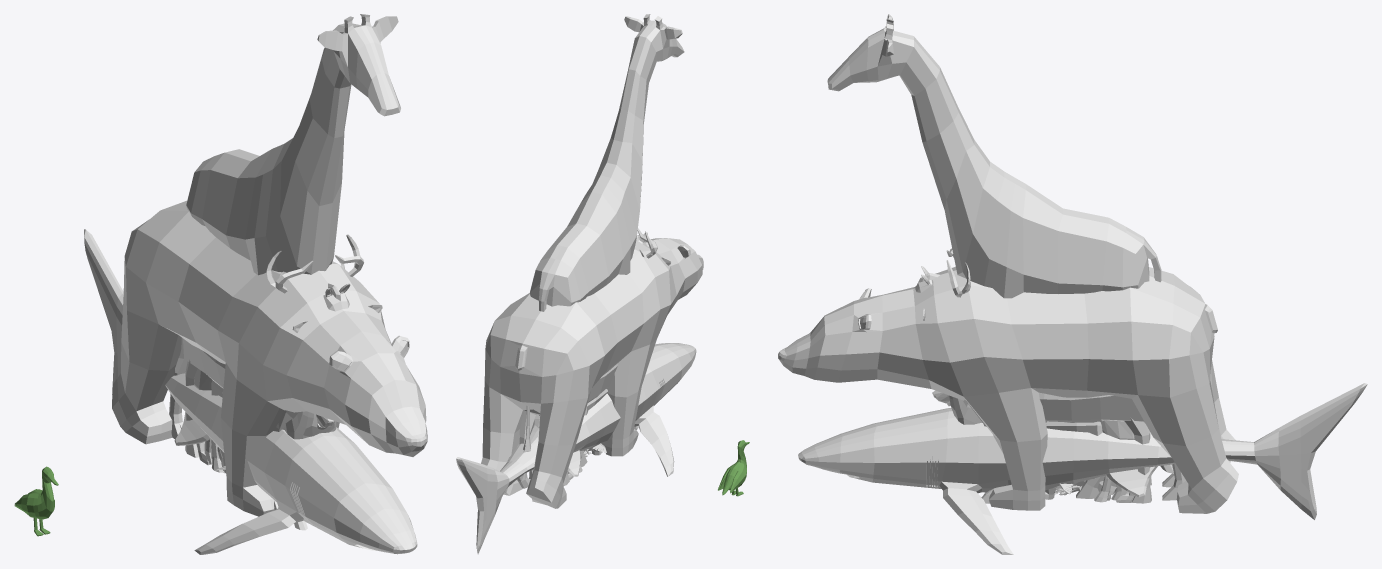
The model's file is duck_final_plane.glb.
3 renders of one model, left to right at view 1: azimuth 30°, elevation 25°; view 2: azimuth 150°, elevation 25°; view 3: azimuth 270°, elevation 25°, orthographic. The views are drawn at different scales.
Parts seen in each view (by area): view 1: bear_final_plane, giraffe_final_plane, shark_final_plane, cow_final_plane, duck_final_plane, dog_small_final_plane, deer_female_final_plane, horse_final_plane, wolf_final_plane; view 2: bear_final_plane, giraffe_final_plane, shark_final_plane, cow_final_plane, duck_final_plane; view 3: bear_final_plane, giraffe_final_plane, shark_final_plane, cow_final_plane, horse_final_plane, wolf_final_plane, sheep_final_plane.
Boxes of the visible parts, x1=… form: bear_final_plane: x1=112, y1=200, x2=427, y2=516; giraffe_final_plane: x1=186, y1=14, x2=400, y2=473; shark_final_plane: x1=84, y1=229, x2=417, y2=554; cow_final_plane: x1=169, y1=304, x2=382, y2=509; duck_final_plane: x1=14, y1=466, x2=58, y2=536; dog_small_final_plane: x1=204, y1=411, x2=336, y2=530; deer_female_final_plane: x1=210, y1=234, x2=363, y2=458; horse_final_plane: x1=185, y1=283, x2=350, y2=457; wolf_final_plane: x1=194, y1=368, x2=334, y2=465; bear_final_plane: x1=481, y1=235, x2=703, y2=508; giraffe_final_plane: x1=530, y1=14, x2=684, y2=467; shark_final_plane: x1=456, y1=343, x2=696, y2=554; cow_final_plane: x1=517, y1=257, x2=671, y2=488; duck_final_plane: x1=718, y1=440, x2=749, y2=496; bear_final_plane: x1=778, y1=266, x2=1238, y2=513; giraffe_final_plane: x1=827, y1=14, x2=1161, y2=498; shark_final_plane: x1=798, y1=383, x2=1367, y2=554; cow_final_plane: x1=923, y1=308, x2=1186, y2=503; horse_final_plane: x1=915, y1=266, x2=1151, y2=503; wolf_final_plane: x1=932, y1=390, x2=1173, y2=502; sheep_final_plane: x1=982, y1=421, x2=1111, y2=502.
Size of the model in its own units: 2.48 by 4.2 by 4.5.
